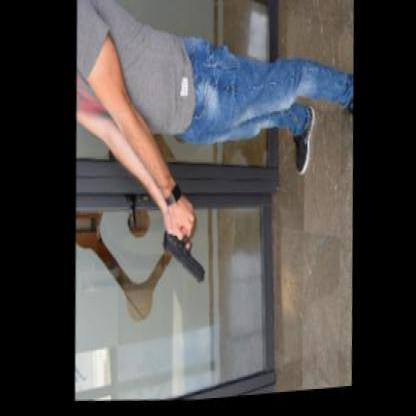pistol: (158, 228, 204, 287)
